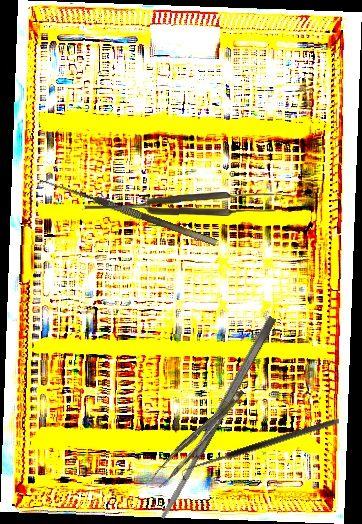Hook Surgical: (35, 175, 218, 256), (179, 416, 343, 483)
Spatula Surgical: (156, 314, 279, 522)
Tissue Forceps: (146, 389, 255, 489), (82, 190, 276, 219)
